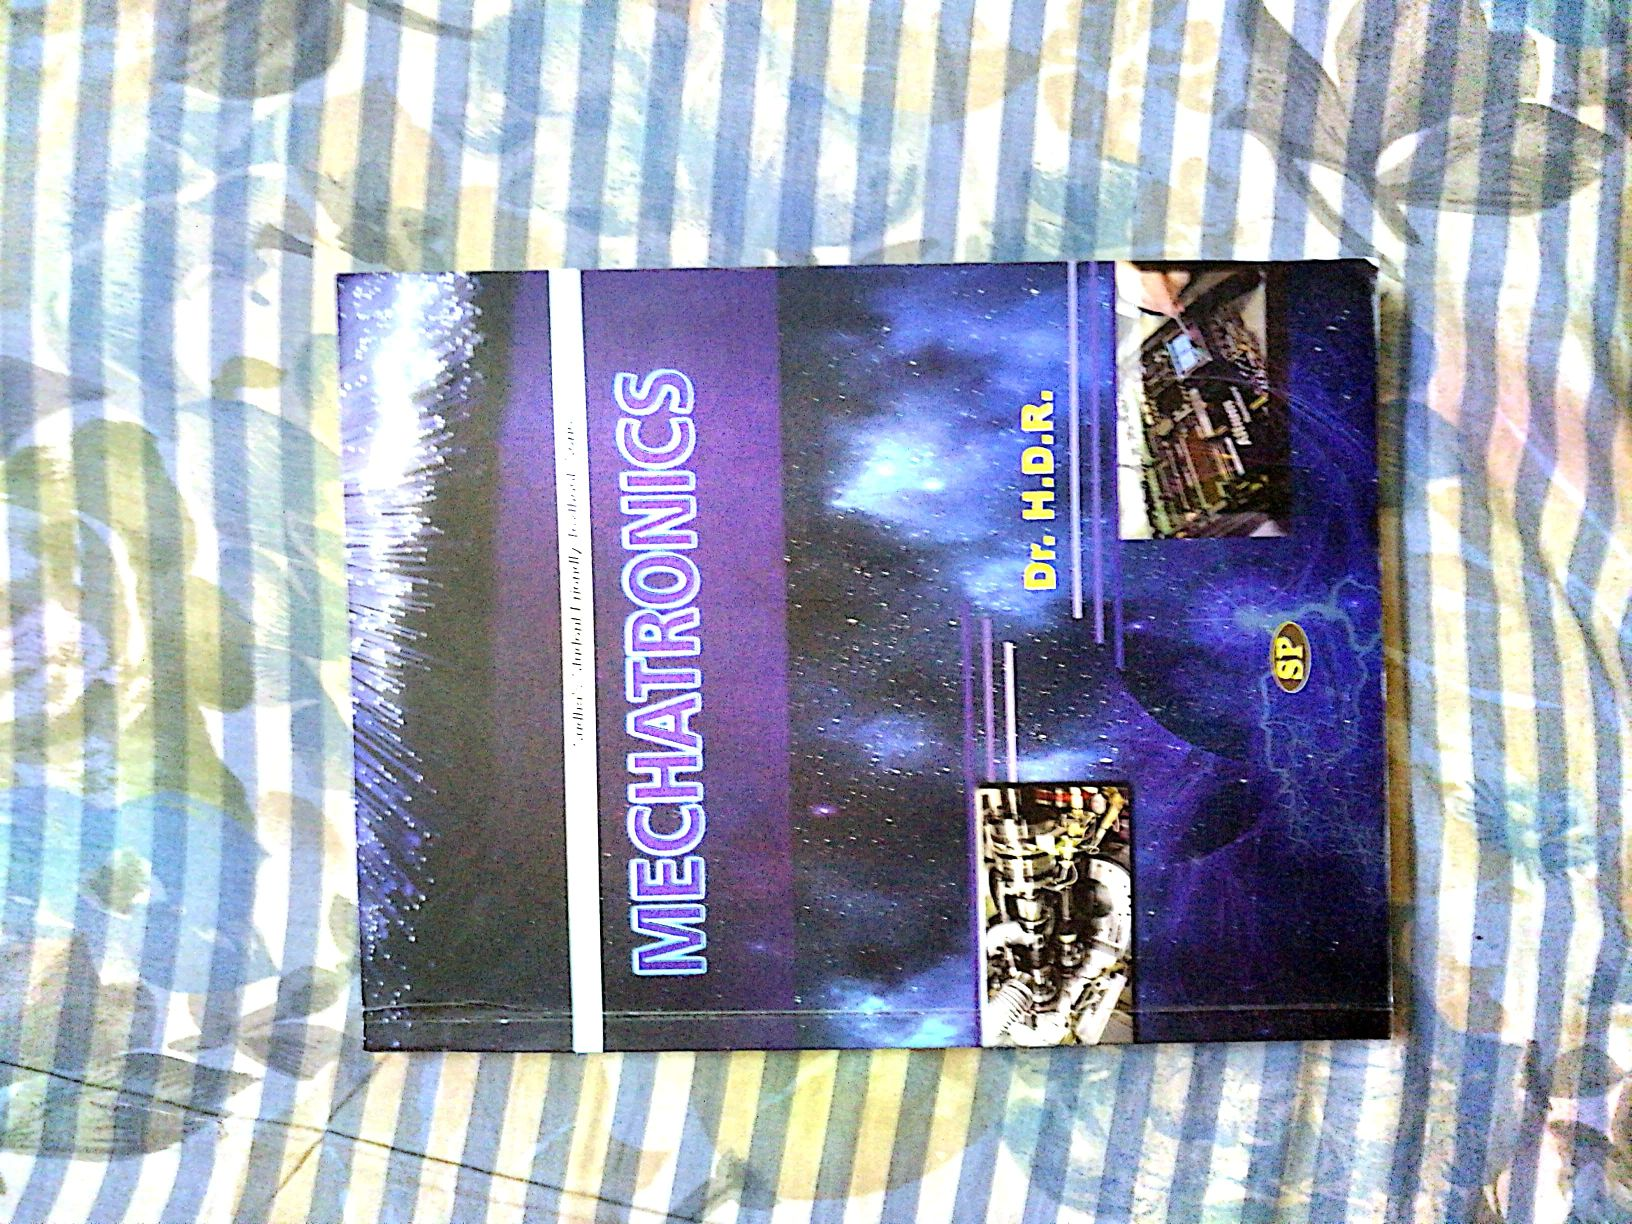mechatronics: (305, 237, 1432, 1047)
